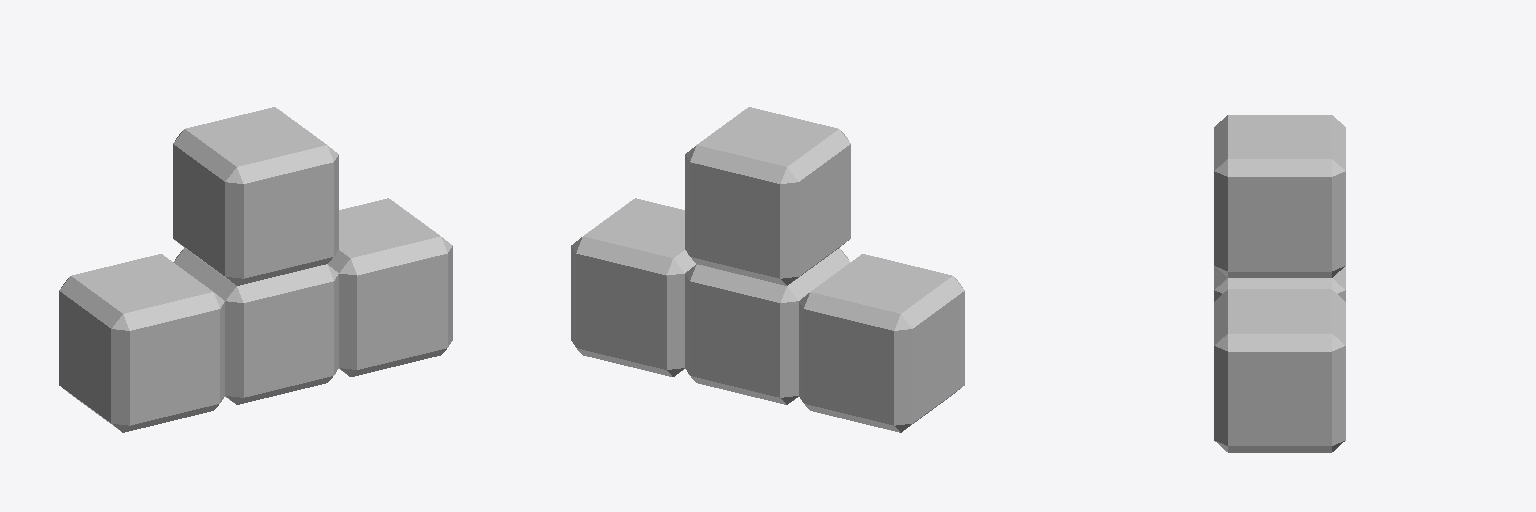
The model's file is primitive_1.obj.
3 renders of one model, left to right at view 1: azimuth 30°, elevation 25°; view 2: azimuth 150°, elevation 25°; view 3: azimuth 270°, elevation 25°, orthographic.
Visible parts, largest first — view 1: Cube, Cube.001, Cube.003, Cube.002; view 2: Cube, Cube.001, Cube.003, Cube.002; view 3: Cube.003, Cube, Cube.002.
Boxes of the visible parts, x1=… form: Cube: x1=173, y1=107, x2=338, y2=285; Cube.001: x1=59, y1=254, x2=224, y2=432; Cube.003: x1=328, y1=198, x2=452, y2=376; Cube.002: x1=173, y1=248, x2=338, y2=404; Cube: x1=685, y1=107, x2=850, y2=285; Cube.001: x1=799, y1=254, x2=964, y2=432; Cube.003: x1=571, y1=198, x2=695, y2=376; Cube.002: x1=685, y1=248, x2=850, y2=404; Cube.003: x1=1214, y1=289, x2=1345, y2=452; Cube: x1=1214, y1=115, x2=1345, y2=277; Cube.002: x1=1214, y1=266, x2=1345, y2=301.
Bounding box in the file's own units: 6 × 4 × 2.